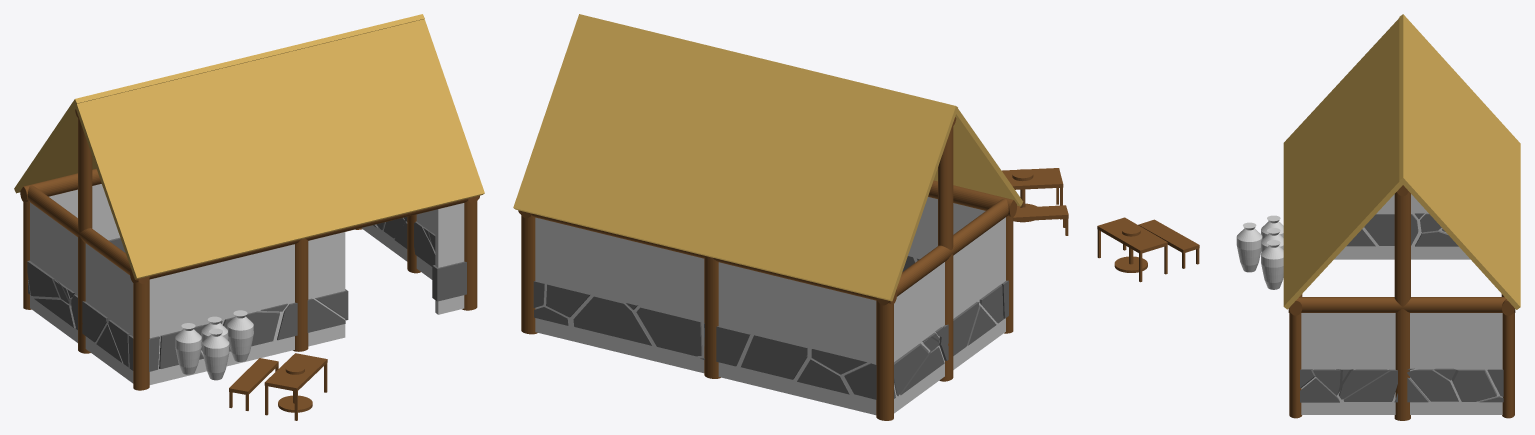
Rendered from Potter.fbx.
The picture shows the model from 3 angles, left to right: view 1: azimuth 30°, elevation 25°; view 2: azimuth 150°, elevation 25°; view 3: azimuth 270°, elevation 25°; orthographic projection. The views are drawn at different scales.
Parts seen in each view (by area): view 1: Roof, Clay Walls, Struts, Stone Walls, Pottery, Table, Bench, Wheel; view 2: Roof, Clay Walls, Stone Walls, Struts, Table, Bench; view 3: Roof, Clay Walls, Struts, Stone Walls, Pottery, Table, Bench, Wheel.
Part boxes in pixels (<box>): Roof: <box>14,14,484,279</box>; Clay Walls: <box>30,184,464,384</box>; Struts: <box>20,109,479,390</box>; Stone Walls: <box>27,217,466,371</box>; Pottery: <box>175,310,253,380</box>; Table: <box>264,353,327,420</box>; Bench: <box>229,358,278,410</box>; Wheel: <box>278,364,312,412</box>; Roof: <box>513,14,1023,301</box>; Clay Walls: <box>535,197,1005,415</box>; Stone Walls: <box>533,255,1008,399</box>; Struts: <box>518,117,1016,420</box>; Table: <box>1002,168,1063,219</box>; Bench: <box>1013,205,1068,235</box>; Roof: <box>1283,14,1520,309</box>; Clay Walls: <box>1301,194,1502,414</box>; Struts: <box>1288,185,1515,420</box>; Stone Walls: <box>1300,213,1503,402</box>; Pottery: <box>1236,215,1283,289</box>; Table: <box>1097,217,1167,282</box>; Bench: <box>1138,219,1199,268</box>; Wheel: <box>1114,226,1147,272</box>.
Size of the model in its own units: 182 by 127 by 199.
